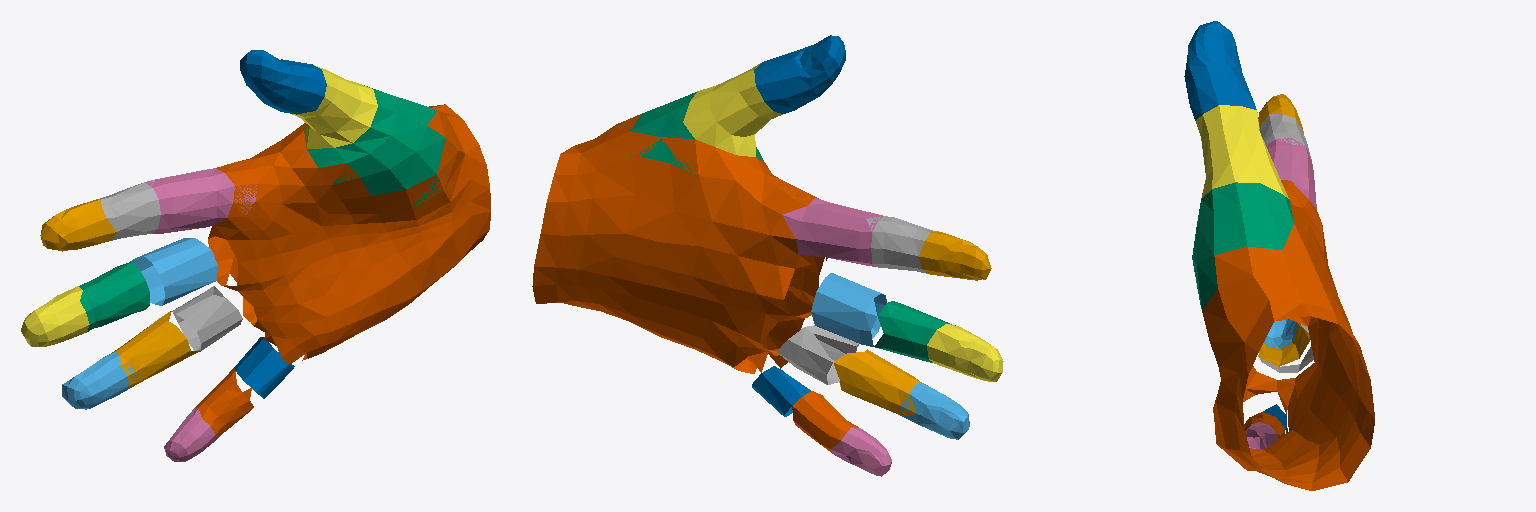
The robot description file, URDF, robot "mano":
<?xml version='1.0' encoding='UTF-8'?>
<robot name="mano">
  <link name="index1y">
    <inertial>
      <origin xyz="0.0 0.0 0.0" rpy="0.0 -0.0 0.0"/>
      <mass value="0.02"/>
      <inertia ixx="1.0" ixy="0.0" ixz="0.0" iyy="1.0" iyz="0.0" izz="1.0"/>
    </inertial>
  </link>
  <link name="middle1y">
    <inertial>
      <origin xyz="0.0 0.0 0.0" rpy="0.0 -0.0 0.0"/>
      <mass value="0.02"/>
      <inertia ixx="1.0" ixy="0.0" ixz="0.0" iyy="1.0" iyz="0.0" izz="1.0"/>
    </inertial>
  </link>
  <link name="pinky1y">
    <inertial>
      <origin xyz="0.0 0.0 0.0" rpy="0.0 -0.0 0.0"/>
      <mass value="0.02"/>
      <inertia ixx="1.0" ixy="0.0" ixz="0.0" iyy="1.0" iyz="0.0" izz="1.0"/>
    </inertial>
  </link>
  <link name="ring1y">
    <inertial>
      <origin xyz="0.0 0.0 0.0" rpy="0.0 -0.0 0.0"/>
      <mass value="0.02"/>
      <inertia ixx="1.0" ixy="0.0" ixz="0.0" iyy="1.0" iyz="0.0" izz="1.0"/>
    </inertial>
  </link>
  <link name="thumb1y">
    <inertial>
      <origin xyz="0.0 0.0 0.0" rpy="0.0 -0.0 0.0"/>
      <mass value="0.02"/>
      <inertia ixx="1.0" ixy="0.0" ixz="0.0" iyy="1.0" iyz="0.0" izz="1.0"/>
    </inertial>
  </link>
  <link name="palm">
    <inertial>
      <origin xyz="0.0 0.0 0.0" rpy="0.0 -0.0 0.0"/>
      <mass value="0.02"/>
      <inertia ixx="1.0" ixy="0.0" ixz="0.0" iyy="1.0" iyz="0.0" izz="1.0"/>
    </inertial>
    <visual>
      <geometry>
        <mesh filename="mano/palm.stl"/>
      </geometry>
      <origin xyz="0.0 0.0 0.0" rpy="0.0 -0.0 0.0"/>
    </visual>
    <collision name="c_palm">
      <geometry>
        <mesh filename="mano/palm.stl"/>
      </geometry>
      <origin xyz="0.0 0.0 0.0" rpy="0.0 -0.0 0.0"/>
    </collision>
  </link>
  <link name="index1x">
    <inertial>
      <origin xyz="0.0 0.0 0.0" rpy="0.0 -0.0 0.0"/>
      <mass value="0.02"/>
      <inertia ixx="1.0" ixy="0.0" ixz="0.0" iyy="1.0" iyz="0.0" izz="1.0"/>
    </inertial>
    <visual>
      <geometry>
        <mesh filename="mano/index1x.stl"/>
      </geometry>
      <origin xyz="0.0 0.0 0.0" rpy="1.4831328135958037 -1.512034262840266 1.6583093053562068"/>
    </visual>
    <collision name="c_index1x">
      <geometry>
        <mesh filename="mano/index1x.stl"/>
      </geometry>
      <origin xyz="0.0 0.0 0.0" rpy="1.4831328135958037 -1.512034262840266 1.6583093053562068"/>
    </collision>
  </link>
  <link name="index2">
    <inertial>
      <origin xyz="0.0 0.0 0.0" rpy="0.0 -0.0 0.0"/>
      <mass value="0.02"/>
      <inertia ixx="1.0" ixy="0.0" ixz="0.0" iyy="1.0" iyz="0.0" izz="1.0"/>
    </inertial>
    <visual>
      <geometry>
        <mesh filename="mano/index2.stl"/>
      </geometry>
      <origin xyz="0.0 0.0 0.0" rpy="1.4831328135958037 -1.512034262840266 1.6583093053562068"/>
    </visual>
    <collision name="c_index2">
      <geometry>
        <mesh filename="mano/index2.stl"/>
      </geometry>
      <origin xyz="0.0 0.0 0.0" rpy="1.4831328135958037 -1.512034262840266 1.6583093053562068"/>
    </collision>
  </link>
  <link name="index3">
    <inertial>
      <origin xyz="0.0 0.0 0.0" rpy="0.0 -0.0 0.0"/>
      <mass value="0.02"/>
      <inertia ixx="1.0" ixy="0.0" ixz="0.0" iyy="1.0" iyz="0.0" izz="1.0"/>
    </inertial>
    <visual>
      <geometry>
        <mesh filename="mano/index3.stl"/>
      </geometry>
      <origin xyz="0.0 0.0 0.0" rpy="1.4831328135958037 -1.512034262840266 1.6583093053562068"/>
    </visual>
    <collision name="c_index3">
      <geometry>
        <mesh filename="mano/index3.stl"/>
      </geometry>
      <origin xyz="0.0 0.0 0.0" rpy="1.4831328135958037 -1.512034262840266 1.6583093053562068"/>
    </collision>
  </link>
  <link name="middle1x">
    <inertial>
      <origin xyz="0.0 0.0 0.0" rpy="0.0 -0.0 0.0"/>
      <mass value="0.02"/>
      <inertia ixx="1.0" ixy="0.0" ixz="0.0" iyy="1.0" iyz="0.0" izz="1.0"/>
    </inertial>
    <visual>
      <geometry>
        <mesh filename="mano/middle1x.stl"/>
      </geometry>
      <origin xyz="0.0 0.0 0.0" rpy="0.3073692753779058 -1.3920421760802733 2.8108489113038133"/>
    </visual>
    <collision name="c_middle1x">
      <geometry>
        <mesh filename="mano/middle1x.stl"/>
      </geometry>
      <origin xyz="0.0 0.0 0.0" rpy="0.3073692753779058 -1.3920421760802733 2.8108489113038133"/>
    </collision>
  </link>
  <link name="middle2">
    <inertial>
      <origin xyz="0.0 0.0 0.0" rpy="0.0 -0.0 0.0"/>
      <mass value="0.02"/>
      <inertia ixx="1.0" ixy="0.0" ixz="0.0" iyy="1.0" iyz="0.0" izz="1.0"/>
    </inertial>
    <visual>
      <geometry>
        <mesh filename="mano/middle2.stl"/>
      </geometry>
      <origin xyz="0.0 0.0 0.0" rpy="0.3073692753779058 -1.3920421760802733 2.8108489113038133"/>
    </visual>
    <collision name="c_middle2">
      <geometry>
        <mesh filename="mano/middle2.stl"/>
      </geometry>
      <origin xyz="0.0 0.0 0.0" rpy="0.3073692753779058 -1.3920421760802733 2.8108489113038133"/>
    </collision>
  </link>
  <link name="middle3">
    <inertial>
      <origin xyz="0.0 0.0 0.0" rpy="0.0 -0.0 0.0"/>
      <mass value="0.02"/>
      <inertia ixx="1.0" ixy="0.0" ixz="0.0" iyy="1.0" iyz="0.0" izz="1.0"/>
    </inertial>
    <visual>
      <geometry>
        <mesh filename="mano/middle3.stl"/>
      </geometry>
      <origin xyz="0.0 0.0 0.0" rpy="0.3073692753779058 -1.3920421760802733 2.8108489113038133"/>
    </visual>
    <collision name="c_middle3">
      <geometry>
        <mesh filename="mano/middle3.stl"/>
      </geometry>
      <origin xyz="0.0 0.0 0.0" rpy="0.3073692753779058 -1.3920421760802733 2.8108489113038133"/>
    </collision>
  </link>
  <link name="pinky1x">
    <inertial>
      <origin xyz="0.0 0.0 0.0" rpy="0.0 -0.0 0.0"/>
      <mass value="0.02"/>
      <inertia ixx="1.0" ixy="0.0" ixz="0.0" iyy="1.0" iyz="0.0" izz="1.0"/>
    </inertial>
    <visual>
      <geometry>
        <mesh filename="mano/pinky1x.stl"/>
      </geometry>
      <origin xyz="0.0 0.0 0.0" rpy="0.06679576746850734 -0.992584043476312 -2.9162705580617776"/>
    </visual>
    <collision name="c_pinky1x">
      <geometry>
        <mesh filename="mano/pinky1x.stl"/>
      </geometry>
      <origin xyz="0.0 0.0 0.0" rpy="0.06679576746850734 -0.992584043476312 -2.9162705580617776"/>
    </collision>
  </link>
  <link name="pinky2">
    <inertial>
      <origin xyz="0.0 0.0 0.0" rpy="0.0 -0.0 0.0"/>
      <mass value="0.02"/>
      <inertia ixx="1.0" ixy="0.0" ixz="0.0" iyy="1.0" iyz="0.0" izz="1.0"/>
    </inertial>
    <visual>
      <geometry>
        <mesh filename="mano/pinky2.stl"/>
      </geometry>
      <origin xyz="0.0 0.0 0.0" rpy="0.06679576746850734 -0.992584043476312 -2.9162705580617776"/>
    </visual>
    <collision name="c_pinky2">
      <geometry>
        <mesh filename="mano/pinky2.stl"/>
      </geometry>
      <origin xyz="0.0 0.0 0.0" rpy="0.06679576746850734 -0.992584043476312 -2.9162705580617776"/>
    </collision>
  </link>
  <link name="pinky3">
    <inertial>
      <origin xyz="0.0 0.0 0.0" rpy="0.0 -0.0 0.0"/>
      <mass value="0.02"/>
      <inertia ixx="1.0" ixy="0.0" ixz="0.0" iyy="1.0" iyz="0.0" izz="1.0"/>
    </inertial>
    <visual>
      <geometry>
        <mesh filename="mano/pinky3.stl"/>
      </geometry>
      <origin xyz="0.0 0.0 0.0" rpy="0.06679576746850734 -0.992584043476312 -2.9162705580617776"/>
    </visual>
    <collision name="c_pinky3">
      <geometry>
        <mesh filename="mano/pinky3.stl"/>
      </geometry>
      <origin xyz="0.0 0.0 0.0" rpy="0.06679576746850734 -0.992584043476312 -2.9162705580617776"/>
    </collision>
  </link>
  <link name="ring1x">
    <inertial>
      <origin xyz="0.0 0.0 0.0" rpy="0.0 -0.0 0.0"/>
      <mass value="0.02"/>
      <inertia ixx="1.0" ixy="0.0" ixz="0.0" iyy="1.0" iyz="0.0" izz="1.0"/>
    </inertial>
    <visual>
      <geometry>
        <mesh filename="mano/ring1x.stl"/>
      </geometry>
      <origin xyz="0.0 0.0 0.0" rpy="0.2176336888802252 -1.2498852725580183 3.0420942217754825"/>
    </visual>
    <collision name="c_ring1x">
      <geometry>
        <mesh filename="mano/ring1x.stl"/>
      </geometry>
      <origin xyz="0.0 0.0 0.0" rpy="0.2176336888802252 -1.2498852725580183 3.0420942217754825"/>
    </collision>
  </link>
  <link name="ring2">
    <inertial>
      <origin xyz="0.0 0.0 0.0" rpy="0.0 -0.0 0.0"/>
      <mass value="0.02"/>
      <inertia ixx="1.0" ixy="0.0" ixz="0.0" iyy="1.0" iyz="0.0" izz="1.0"/>
    </inertial>
    <visual>
      <geometry>
        <mesh filename="mano/ring2.stl"/>
      </geometry>
      <origin xyz="0.0 0.0 0.0" rpy="0.2176336888802252 -1.2498852725580183 3.0420942217754825"/>
    </visual>
    <collision name="c_ring2">
      <geometry>
        <mesh filename="mano/ring2.stl"/>
      </geometry>
      <origin xyz="0.0 0.0 0.0" rpy="0.2176336888802252 -1.2498852725580183 3.0420942217754825"/>
    </collision>
  </link>
  <link name="ring3">
    <inertial>
      <origin xyz="0.0 0.0 0.0" rpy="0.0 -0.0 0.0"/>
      <mass value="0.02"/>
      <inertia ixx="1.0" ixy="0.0" ixz="0.0" iyy="1.0" iyz="0.0" izz="1.0"/>
    </inertial>
    <visual>
      <geometry>
        <mesh filename="mano/ring3.stl"/>
      </geometry>
      <origin xyz="0.0 0.0 0.0" rpy="0.2176336888802252 -1.2498852725580183 3.0420942217754825"/>
    </visual>
    <collision name="c_ring3">
      <geometry>
        <mesh filename="mano/ring3.stl"/>
      </geometry>
      <origin xyz="0.0 0.0 0.0" rpy="0.2176336888802252 -1.2498852725580183 3.0420942217754825"/>
    </collision>
  </link>
  <link name="thumb1z">
    <inertial>
      <origin xyz="0.0 0.0 0.0" rpy="0.0 -0.0 0.0"/>
      <mass value="0.02"/>
      <inertia ixx="1.0" ixy="0.0" ixz="0.0" iyy="1.0" iyz="0.0" izz="1.0"/>
    </inertial>
    <visual>
      <geometry>
        <mesh filename="mano/thumb1z.stl"/>
      </geometry>
      <origin xyz="0.0 0.0 0.0" rpy="1.4810257760657597 -0.15224451823600868 1.6636707290524053"/>
    </visual>
    <collision name="c_thumb1z">
      <geometry>
        <mesh filename="mano/thumb1z.stl"/>
      </geometry>
      <origin xyz="0.0 0.0 0.0" rpy="1.4810257760657597 -0.15224451823600868 1.6636707290524053"/>
    </collision>
  </link>
  <link name="thumb2">
    <inertial>
      <origin xyz="0.0 0.0 0.0" rpy="0.0 -0.0 0.0"/>
      <mass value="0.02"/>
      <inertia ixx="1.0" ixy="0.0" ixz="0.0" iyy="1.0" iyz="0.0" izz="1.0"/>
    </inertial>
    <visual>
      <geometry>
        <mesh filename="mano/thumb2.stl"/>
      </geometry>
      <origin xyz="0.0 0.0 0.0" rpy="2.78364154749573 -0.9614434923439676 -0.6974669503609245"/>
    </visual>
    <collision name="c_thumb2">
      <geometry>
        <mesh filename="mano/thumb2.stl"/>
      </geometry>
      <origin xyz="0.0 0.0 0.0" rpy="2.78364154749573 -0.9614434923439676 -0.6974669503609245"/>
    </collision>
  </link>
  <link name="thumb3">
    <inertial>
      <origin xyz="0.0 0.0 0.0" rpy="0.0 -0.0 0.0"/>
      <mass value="0.02"/>
      <inertia ixx="1.0" ixy="0.0" ixz="0.0" iyy="1.0" iyz="0.0" izz="1.0"/>
    </inertial>
    <visual>
      <geometry>
        <mesh filename="mano/thumb3.stl"/>
      </geometry>
      <origin xyz="0.0 0.0 0.0" rpy="2.78364154749573 -0.9614434923439676 -0.6974669503609245"/>
    </visual>
    <collision name="c_thumb3">
      <geometry>
        <mesh filename="mano/thumb3.stl"/>
      </geometry>
      <origin xyz="0.0 0.0 0.0" rpy="2.78364154749573 -0.9614434923439676 -0.6974669503609245"/>
    </collision>
  </link>
  <joint name="j_index1y" type="revolute">
    <limit effort="100.0" velocity="100.0" lower="-0.3490658503988659" upper="0.3490658503988659"/>
    <parent link="palm"/>
    <child link="index1y"/>
    <axis xyz="0. 1. 0."/>
    <origin xyz="-0.08809724664019486 -0.0052003570684035555 0.02068598903709729" rpy="0.0 -1.5656545707276812 -3.0830557190223242"/>
  </joint>
  <joint name="j_index1x" type="revolute">
    <limit effort="100.0" velocity="100.0" lower="-0.17453292519943295" upper="1.5707963267948966"/>
    <parent link="index1y"/>
    <child link="index1x"/>
    <axis xyz="1. 0. 0."/>
    <origin xyz="0.0 0.0 0.0" rpy="0.0 -0.0 0.0"/>
  </joint>
  <joint name="j_index2" type="revolute">
    <limit effort="100.0" velocity="100.0" lower="0.0" upper="1.7453292519943295"/>
    <parent link="index1x"/>
    <child link="index2"/>
    <axis xyz="1. 0. 0."/>
    <origin xyz="0.0023835711672753985 -0.005914318759078097 -0.03237654210665609" rpy="5.985723906621881e-19 -6.835640390420038e-19 -6.486977305262269e-21"/>
  </joint>
  <joint name="j_index3" type="revolute">
    <limit effort="100.0" velocity="100.0" lower="0.0" upper="1.7453292519943295"/>
    <parent link="index2"/>
    <child link="index3"/>
    <axis xyz="1. 0. 0."/>
    <origin xyz="-2.1969386803155346e-21 1.0054815357582629e-19 -0.022194219361846432" rpy="5.985723906621881e-19 -6.835640390420038e-19 -6.486977305262269e-21"/>
  </joint>
  <joint name="j_middle1y" type="revolute">
    <limit effort="100.0" velocity="100.0" lower="-0.5235987755982988" upper="0.3490658503988659"/>
    <parent link="palm"/>
    <child link="middle1y"/>
    <axis xyz="0. 1. 0."/>
    <origin xyz="-0.09466044139183748 -0.0014789633509431728 -0.0033575408143170205" rpy="-0.10838501782646781 -1.399488824140411 -2.9769988584801235"/>
  </joint>
  <joint name="j_middle1x" type="revolute">
    <limit effort="100.0" velocity="100.0" lower="-0.17453292519943295" upper="1.5707963267948966"/>
    <parent link="middle1y"/>
    <child link="middle1x"/>
    <axis xyz="1. 0. 0."/>
    <origin xyz="0.0 0.0 0.0" rpy="0.0 -0.0 0.0"/>
  </joint>
  <joint name="j_middle2" type="revolute">
    <limit effort="100.0" velocity="100.0" lower="0.0" upper="1.7453292519943295"/>
    <parent link="middle1x"/>
    <child link="middle2"/>
    <axis xyz="1. 0. 0."/>
    <origin xyz="-0.0003207158897834246 -0.003555264565700651 -0.031533781277300055" rpy="-7.187502047679508e-19 1.1776617696394585e-17 -1.1633025402259818e-18"/>
  </joint>
  <joint name="j_middle3" type="revolute">
    <limit effort="100.0" velocity="100.0" lower="0.0" upper="1.7453292519943295"/>
    <parent link="middle2"/>
    <child link="middle3"/>
    <axis xyz="1. 0. 0."/>
    <origin xyz="-5.609489609703704e-20 -7.277896970840872e-20 -0.023275512883098835" rpy="-7.187502047679508e-19 1.1776617696394585e-17 -1.1633025402259818e-18"/>
  </joint>
  <joint name="j_pinky1y" type="revolute">
    <limit effort="100.0" velocity="100.0" lower="-0.6981317007977318" upper="0.3490658503988659"/>
    <parent link="palm"/>
    <child link="pinky1y"/>
    <axis xyz="0. 1. 0."/>
    <origin xyz="-0.0687869720598841 -0.00994032882044861 -0.04320934200328496" rpy="0.4325014617037457 -0.9265283135189503 2.661490603166245"/>
  </joint>
  <joint name="j_pinky1x" type="revolute">
    <limit effort="100.0" velocity="100.0" lower="-0.17453292519943295" upper="1.5707963267948966"/>
    <parent link="pinky1y"/>
    <child link="pinky1x"/>
    <axis xyz="1. 0. 0."/>
    <origin xyz="0.0 0.0 0.0" rpy="0.0 -0.0 0.0"/>
  </joint>
  <joint name="j_pinky2" type="revolute">
    <limit effort="100.0" velocity="100.0" lower="0.0" upper="1.7453292519943295"/>
    <parent link="pinky1x"/>
    <child link="pinky2"/>
    <axis xyz="1. 0. 0."/>
    <origin xyz="-0.0009123243154268479 -0.0011282837702486126 -0.021062001859487044" rpy="-2.484200750483751e-17 -7.081513656750915e-17 -2.6504116429611938e-17"/>
  </joint>
  <joint name="j_pinky3" type="revolute">
    <limit effort="100.0" velocity="100.0" lower="0.0" upper="1.7453292519943295"/>
    <parent link="pinky2"/>
    <child link="pinky3"/>
    <axis xyz="1. 0. 0."/>
    <origin xyz="-1.8952144180532274e-18 2.2152413969868993e-19 -0.01894688789602988" rpy="-2.484200750483751e-17 -7.081513656750915e-17 -2.6504116429611938e-17"/>
  </joint>
  <joint name="j_ring1y" type="revolute">
    <limit effort="100.0" velocity="100.0" lower="-0.5235987755982988" upper="0.3490658503988659"/>
    <parent link="palm"/>
    <child link="ring1y"/>
    <axis xyz="0. 1. 0."/>
    <origin xyz="-0.08173555442881024 -0.003957421152865242 -0.026673193033088197" rpy="0.3794310720777505 -1.2328253203111788 2.8133517240851353"/>
  </joint>
  <joint name="j_ring1x" type="revolute">
    <limit effort="100.0" velocity="100.0" lower="-0.17453292519943295" upper="1.5707963267948966"/>
    <parent link="ring1y"/>
    <child link="ring1x"/>
    <axis xyz="1. 0. 0."/>
    <origin xyz="0.0 0.0 0.0" rpy="0.0 -0.0 0.0"/>
  </joint>
  <joint name="j_ring2" type="revolute">
    <limit effort="100.0" velocity="100.0" lower="0.0" upper="1.7453292519943295"/>
    <parent link="ring1x"/>
    <child link="ring2"/>
    <axis xyz="1. 0. 0."/>
    <origin xyz="0.00429786987999866 -0.003563675567715413 -0.028298309378744307" rpy="-6.026737690030247e-18 -3.508963367964836e-17 -1.7519875374215658e-17"/>
  </joint>
  <joint name="j_ring3" type="revolute">
    <limit effort="100.0" velocity="100.0" lower="0.0" upper="1.7453292519943295"/>
    <parent link="ring2"/>
    <child link="ring3"/>
    <axis xyz="1. 0. 0."/>
    <origin xyz="-7.238679066856496e-20 2.4155957590579026e-19 -0.02478587029620925" rpy="-6.026737690030247e-18 -3.508963367964836e-17 -1.7519875374215658e-17"/>
  </joint>
  <joint name="j_thumb1y" type="revolute">
    <limit effort="100.0" velocity="100.0" lower="-0.17453292519943295" upper="2.6179938779914944"/>
    <parent link="palm"/>
    <child link="thumb1y"/>
    <axis xyz="0. 1. 0."/>
    <origin xyz="-0.024089706802642025 -0.015522334541875703 0.025812847288082738" rpy="0.7270385771615225 -1.451914435932513 -2.4542043209348736"/>
  </joint>
  <joint name="j_thumb1z" type="revolute">
    <limit effort="100.0" velocity="100.0" lower="-0.6981317007977318" upper="0.6981317007977318"/>
    <parent link="thumb1y"/>
    <child link="thumb1z"/>
    <axis xyz="0. 0. 1."/>
    <origin xyz="0.0 0.0 0.0" rpy="0.0 -0.0 0.0"/>
  </joint>
  <joint name="j_thumb2" type="revolute">
    <limit effort="100.0" velocity="100.0" lower="0.0" upper="1.7453292519943295"/>
    <parent link="thumb1z"/>
    <child link="thumb2"/>
    <axis xyz="1. 0. 0."/>
    <origin xyz="0.02526494873869172 -0.017595730026252792 1.0660017461924156e-19" rpy="-1.1705944339598562 0.7898458524685564 0.9959904350807831"/>
  </joint>
  <joint name="j_thumb3" type="revolute">
    <limit effort="100.0" velocity="100.0" lower="0.0" upper="1.7453292519943295"/>
    <parent link="thumb2"/>
    <child link="thumb3"/>
    <axis xyz="1. 0. 0."/>
    <origin xyz="1.6439906908155651e-19 1.0686676358921293e-18 -0.027094189966248017" rpy="-3.586194595879372e-17 2.2299700610673483e-17 5.828722753684352e-18"/>
  </joint>
</robot>

--- What the picture shows (computed from the rendered views, not written in the file) ---
Views: 3 orthographic renders of the robot side by side, from view 1: azimuth 30°, elevation 25°; view 2: azimuth 150°, elevation 25°; view 3: azimuth 270°, elevation 25°.
Model mano with 21 links and 20 joints (20 revolute), rooted at palm, posed every joint at zero.
Links seen in each view (by area): view 1: palm, thumb1z, index1x, thumb2, thumb3, middle1x, middle2, ring2, ring1x, index3, middle3, index2 (+4 smaller); view 2: palm, thumb2, thumb3, index1x, middle1x, ring2, middle3, ring1x, middle2, index2, index3, ring3 (+4 smaller); view 3: palm, thumb1z, thumb2, thumb3, index1x, index2, ring2, ring3, index3, pinky3.
Link boxes in pixels (x1,y1,x2,y2): palm: (208,104,490,364); thumb1z: (307,85,452,207); index1x: (145,168,256,233); thumb2: (292,65,377,148); thumb3: (240,50,326,114); middle1x: (130,238,217,305); middle2: (79,262,149,331); ring2: (112,311,200,388); ring1x: (172,286,242,350); index3: (40,200,116,251); middle3: (21,286,89,346); index2: (96,180,160,240); palm: (532,114,827,373); thumb2: (683,63,782,156); thumb3: (754,35,845,113); index1x: (782,197,882,267); middle1x: (811,273,886,346); ring2: (833,349,925,415); middle3: (927,324,1003,381); ring1x: (777,325,858,384); middle2: (874,301,955,362); index2: (866,216,938,273); index3: (919,232,991,280); ring3: (901,382,969,439); palm: (1202,180,1374,490); thumb1z: (1192,182,1293,310); thumb2: (1196,105,1288,198); thumb3: (1184,21,1256,120); index1x: (1266,138,1316,209); index2: (1260,114,1311,159); ring2: (1259,323,1309,366); ring3: (1264,319,1297,348); index3: (1258,94,1303,133); pinky3: (1245,422,1277,449).
Size in the robot's own frame: 0.193 by 0.0613 by 0.1677 metres.
Meshes: 16 distinct files referenced, 16 mesh visuals loaded (16 binary STL).
